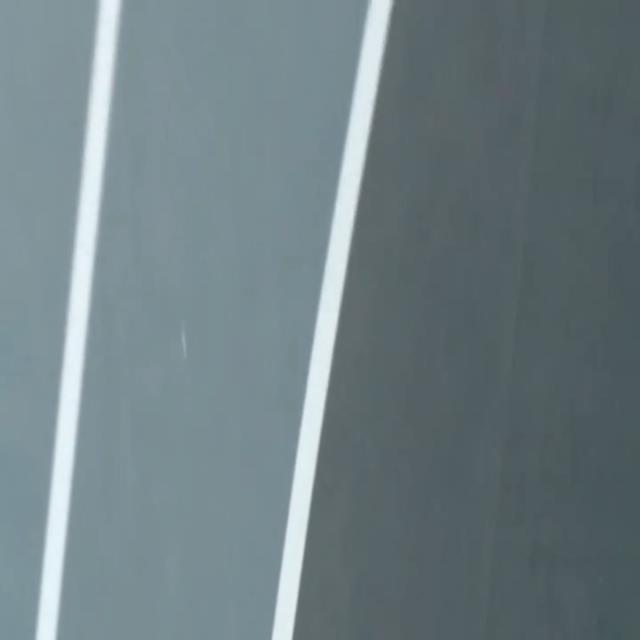left: (271, 0, 393, 639)
